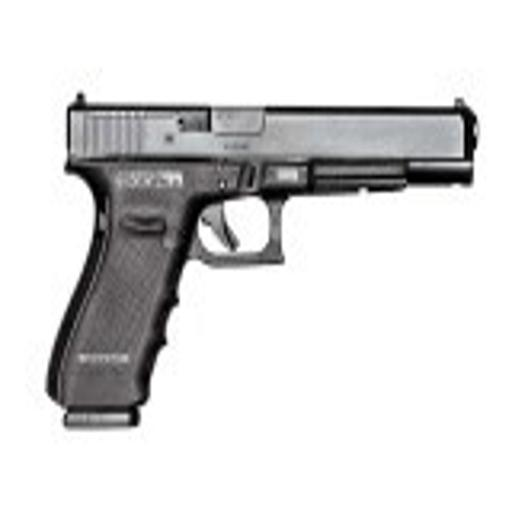Handgun: (37, 88, 485, 438)
